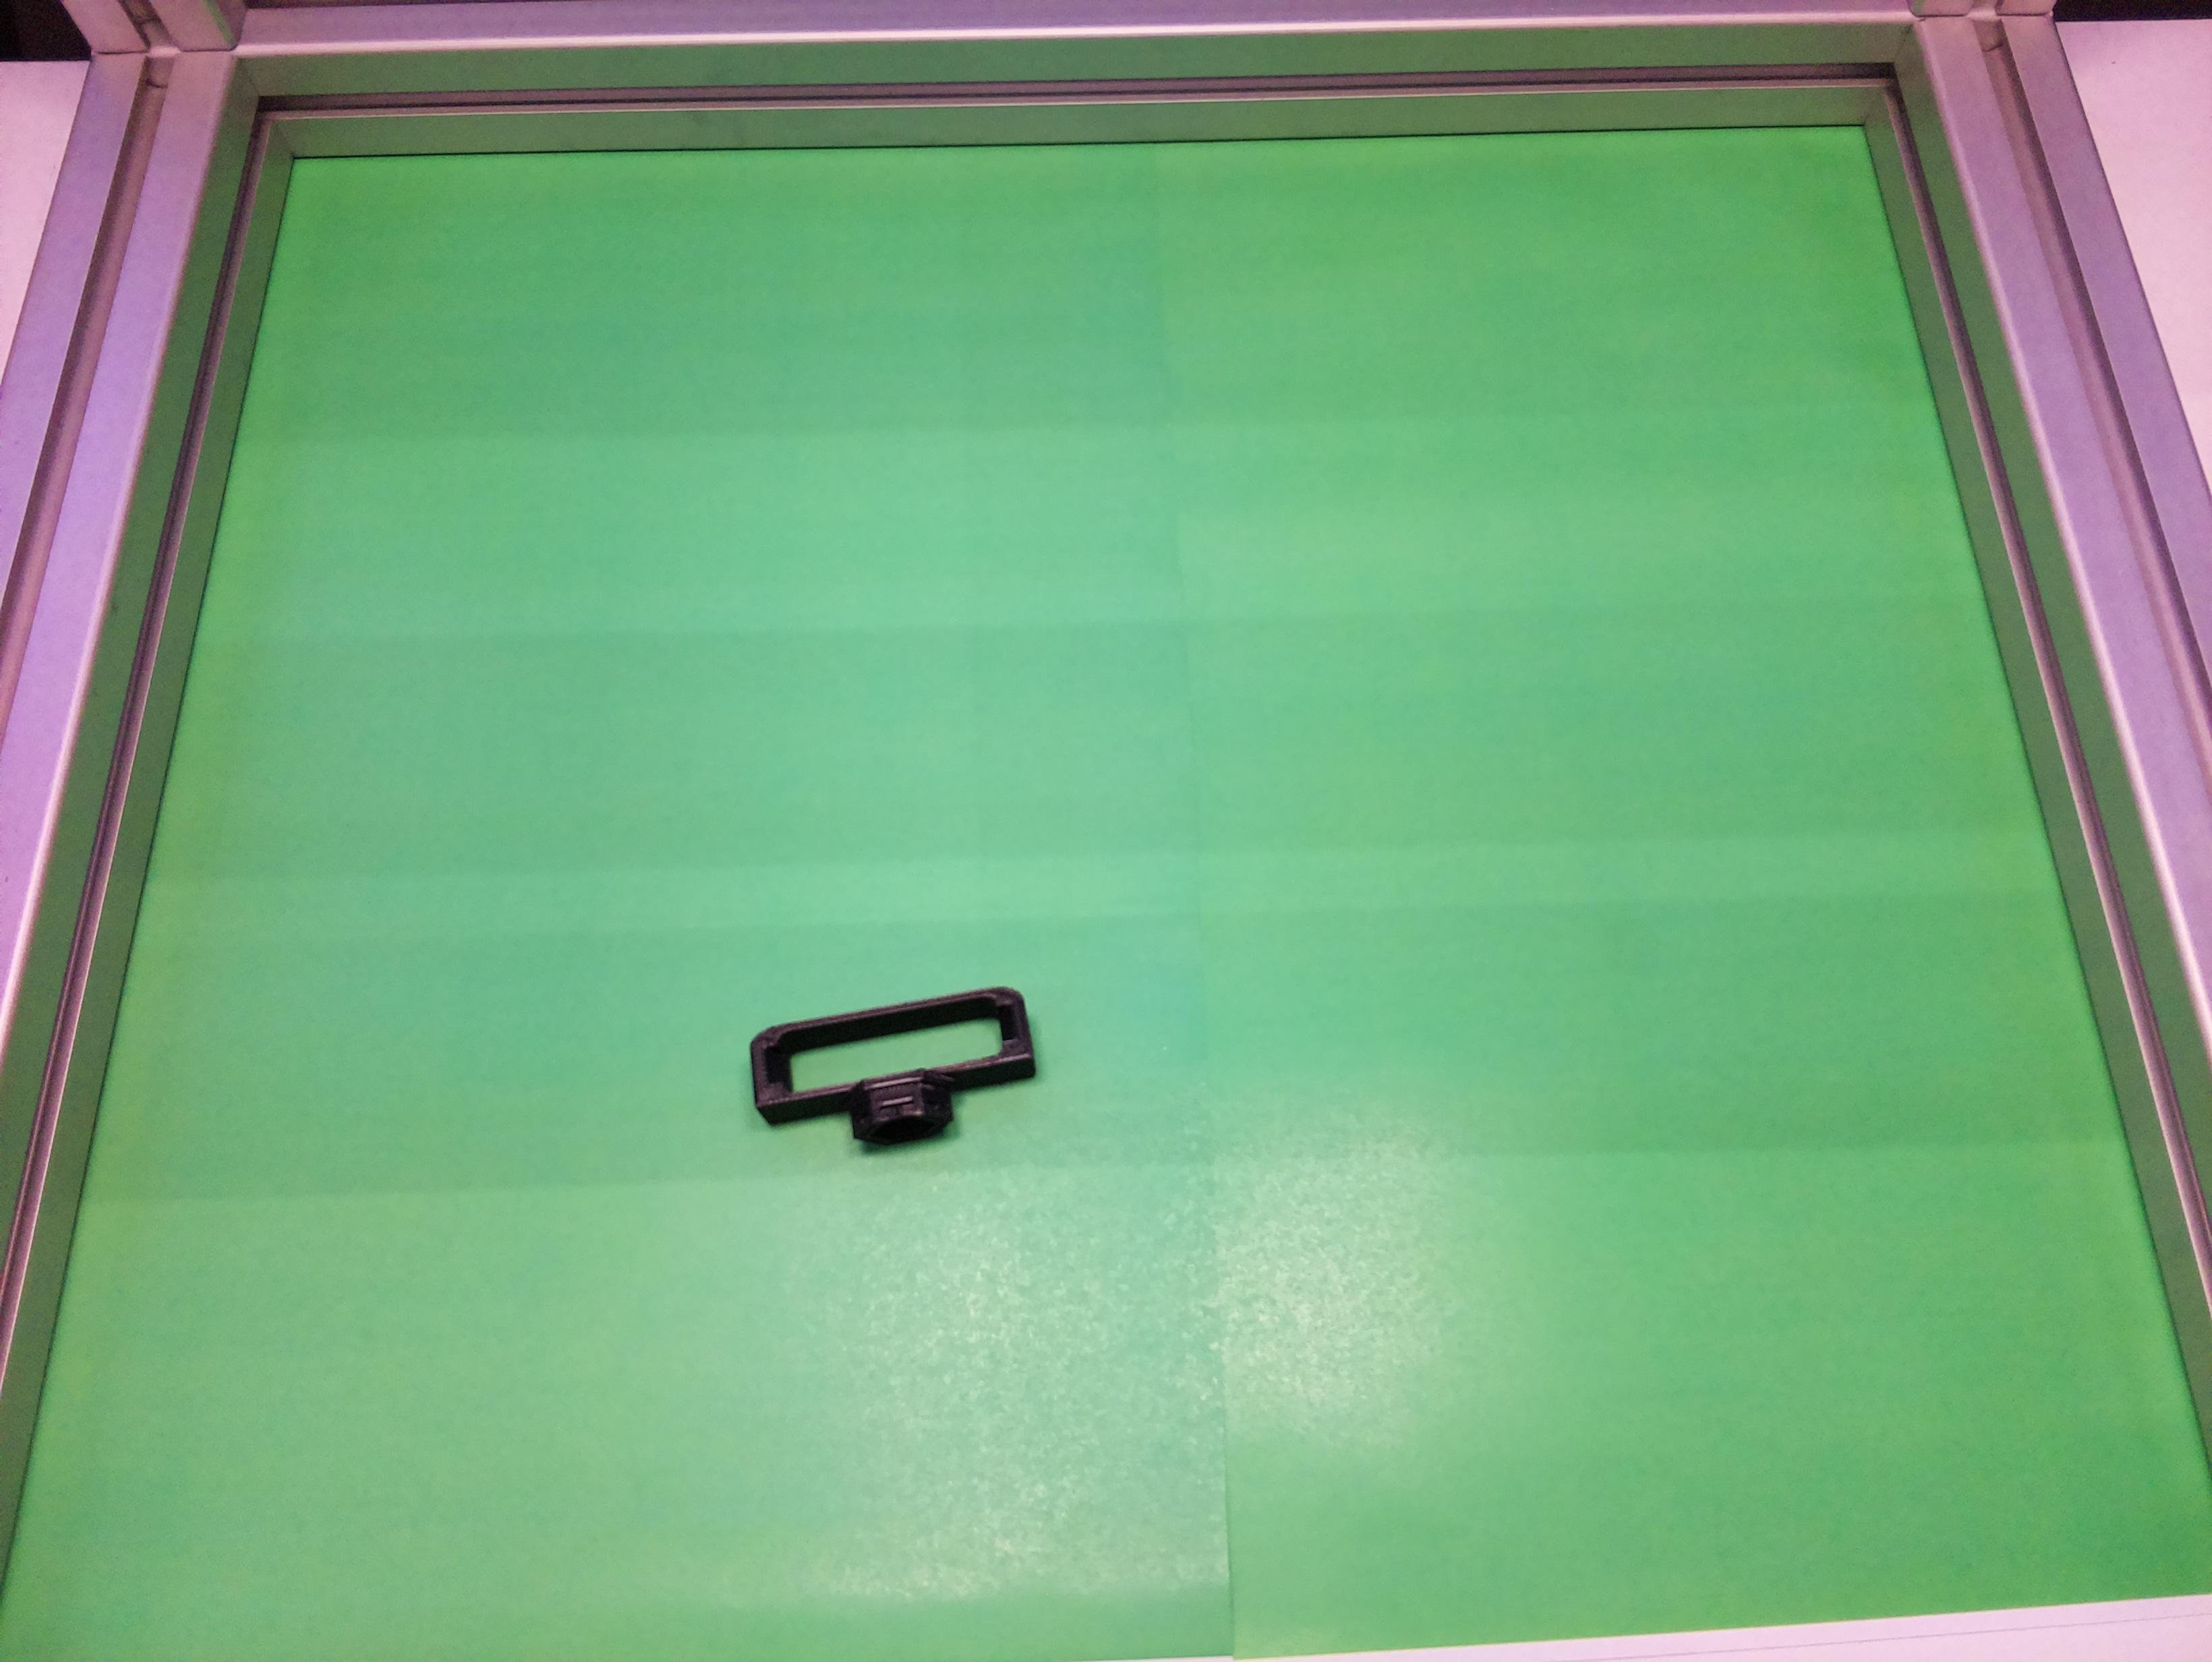cutter_holder: (740, 978, 1046, 1170)
